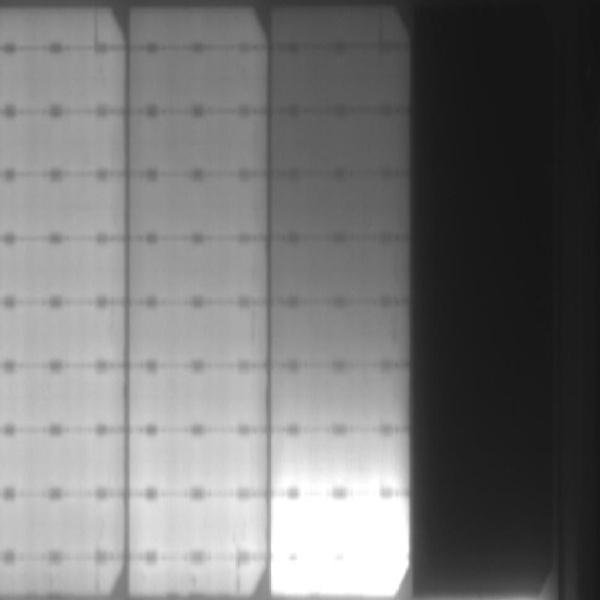hot_spot: (275, 501, 404, 554), (273, 559, 394, 595)
no_electricity: (414, 2, 598, 598)
